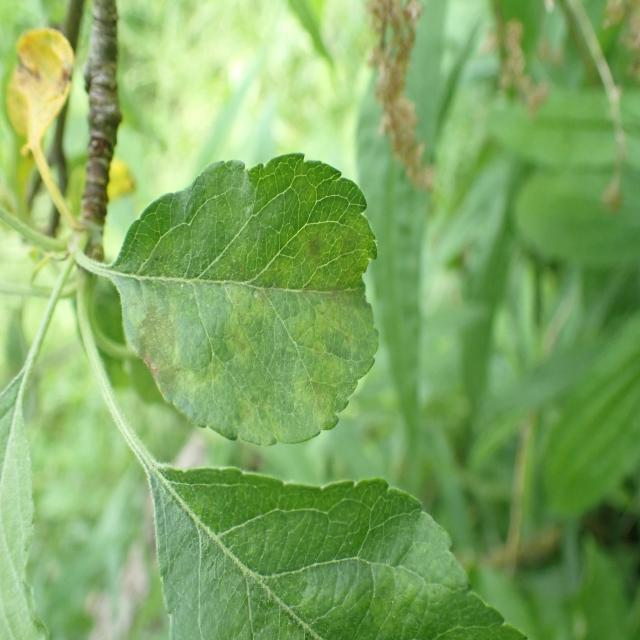scab: (115, 187, 379, 429)
